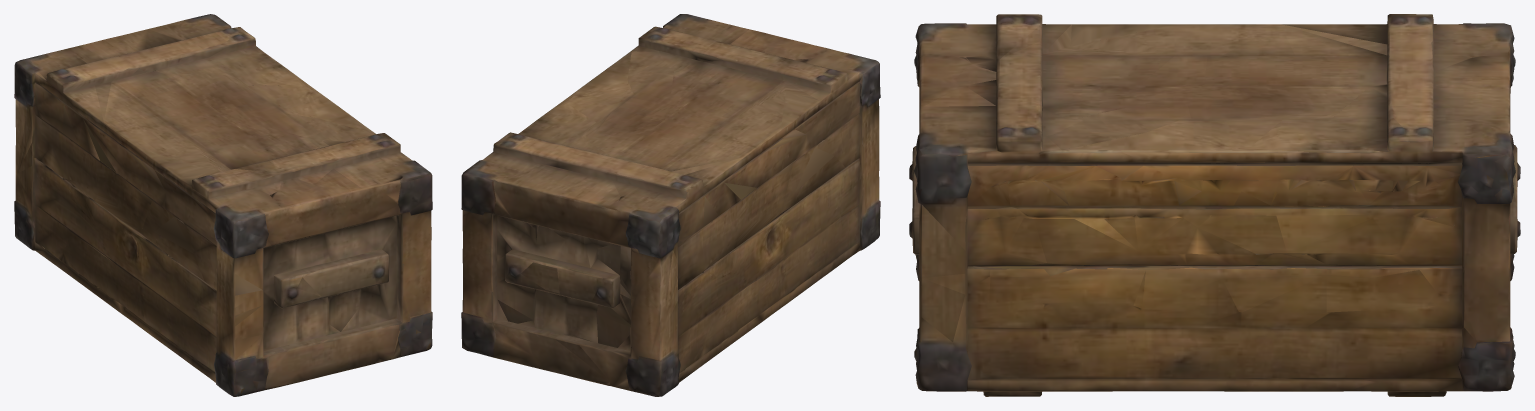
File: prop_crate_large.glb
The picture shows the model from 3 angles, left to right: view 1: azimuth 30°, elevation 25°; view 2: azimuth 150°, elevation 25°; view 3: azimuth 270°, elevation 25°; orthographic projection. The views are drawn at different scales.
Visible parts, largest first — view 1: prop; view 2: prop; view 3: prop.
Boxes of the visible parts, bbox=[...] form: prop: bbox=[14, 14, 432, 396]; prop: bbox=[461, 14, 880, 396]; prop: bbox=[909, 14, 1520, 396].
Size of the model in its own units: 0.5222 by 0.4882 by 1.
Materials: 1 (1 with a texture image).
